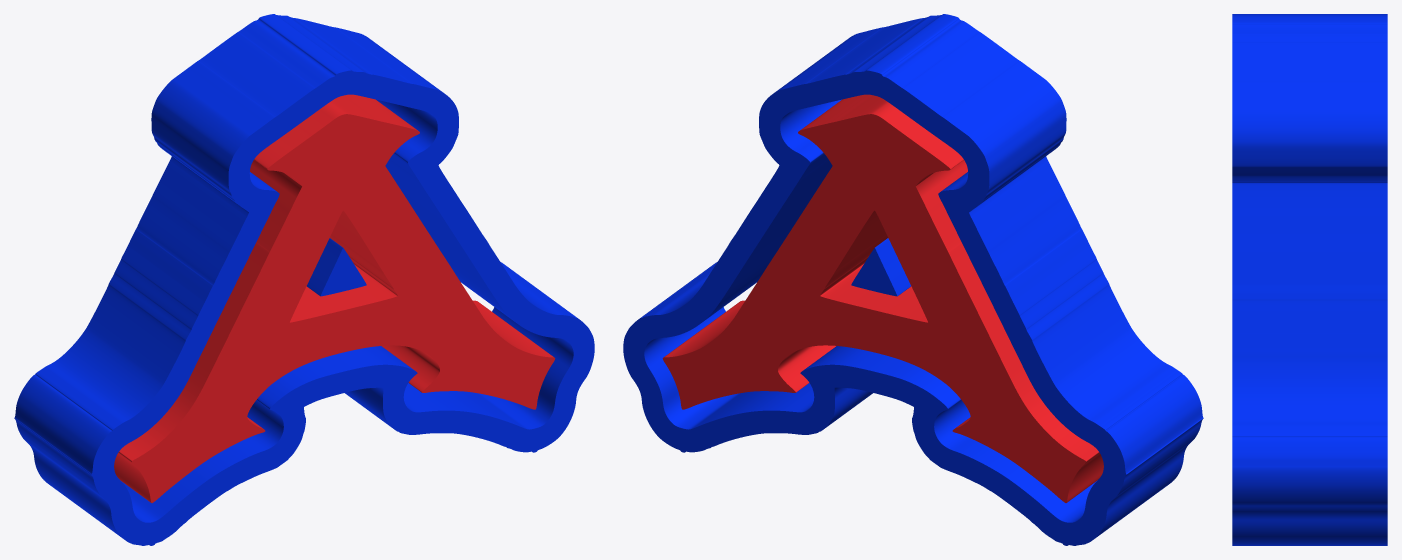
Rendered from acereros.glb.
3 renders of one model, left to right at view 1: azimuth 30°, elevation 25°; view 2: azimuth 150°, elevation 25°; view 3: azimuth 270°, elevation 25°, orthographic.
Parts seen in each view (by area): view 1: Curve, Curve.001, Curve.002; view 2: Curve, Curve.001, Curve.002; view 3: Curve.
Boxes of the visible parts, box(x1,y1,x2,y2) form: Curve: box(14, 14, 594, 545); Curve.001: box(114, 94, 555, 502); Curve.002: box(307, 238, 366, 296); Curve: box(623, 14, 1203, 545); Curve.001: box(662, 94, 1103, 502); Curve.002: box(851, 238, 910, 296); Curve: box(1232, 14, 1387, 545).
Size of the model in its own units: 2.12 by 1.72 by 0.5627.
